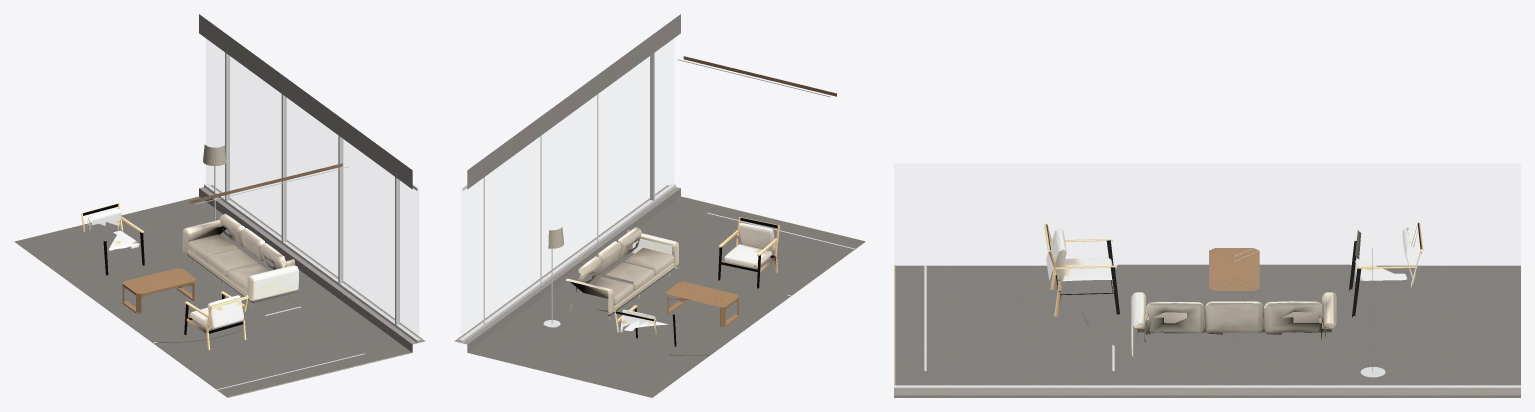
The model's file is z-final-lite.light.573205f1.glb.
The picture shows the model from 3 angles, left to right: view 1: azimuth 30°, elevation 25°; view 2: azimuth 150°, elevation 25°; view 3: azimuth 270°, elevation 25°; orthographic projection. The views are drawn at different scales.
Visible parts, largest first — view 1: final_carpet, final_fx, final_plaster, final_satin, final_emit, final_oak; view 2: final_carpet, final_fx, final_plaster, final_satin, final_oak, final_emit; view 3: final_carpet, final_fx, final_plaster, final_satin.
Boxes of the visible parts, <box> form: final_carpet: <box>14,196,412,397</box>; final_fx: <box>81,203,298,350</box>; final_plaster: <box>199,14,425,352</box>; final_satin: <box>122,52,420,389</box>; final_emit: <box>195,144,348,204</box>; final_oak: <box>189,163,342,203</box>; final_carpet: <box>467,196,864,397</box>; final_fx: <box>565,217,779,346</box>; final_plaster: <box>454,14,680,352</box>; final_satin: <box>459,52,855,342</box>; final_oak: <box>683,56,836,96</box>; final_emit: <box>548,59,830,248</box>; final_carpet: <box>894,264,1520,397</box>; final_fx: <box>1044,222,1423,363</box>; final_plaster: <box>894,387,1520,395</box>; final_satin: <box>894,247,1520,387</box>.
Bounding box in the file's own units: 3.75 × 3.3 × 7.
8 materials, 4 textured.
